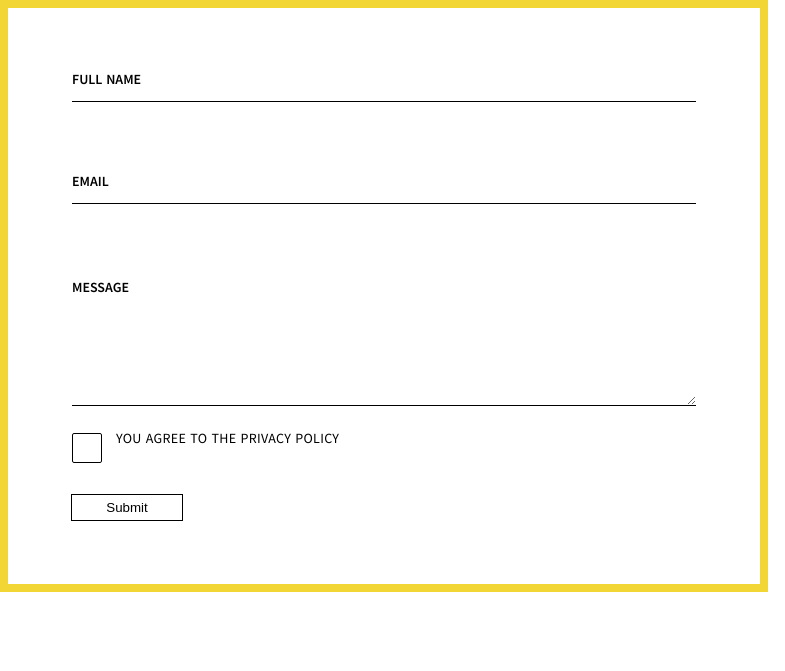
Scenario: TheContactForm › handles API failure during submission
Type "Jane Doe" into the field with id "name" at (384, 77), box [72, 52, 696, 102]
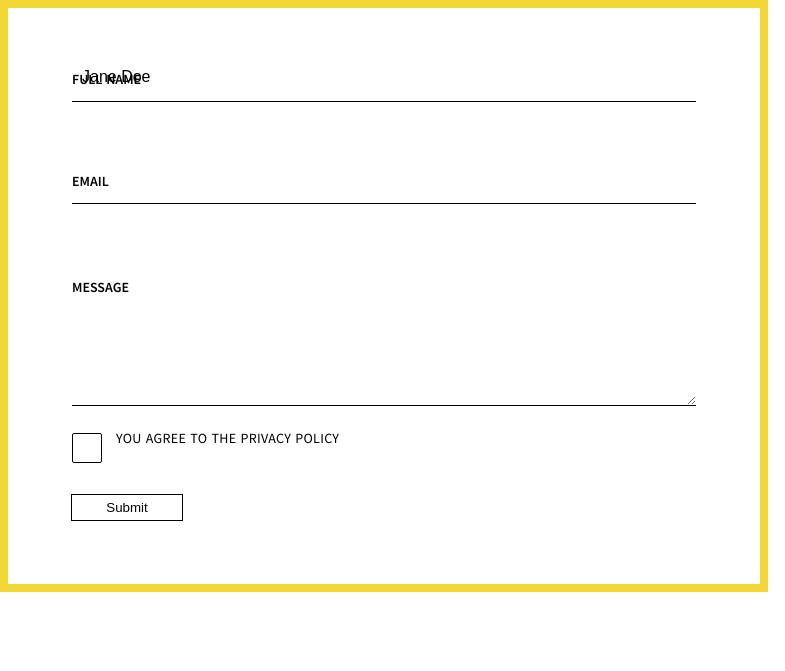
Type "jane@example.com" into the field with id "email" at (384, 179), box [72, 154, 696, 204]
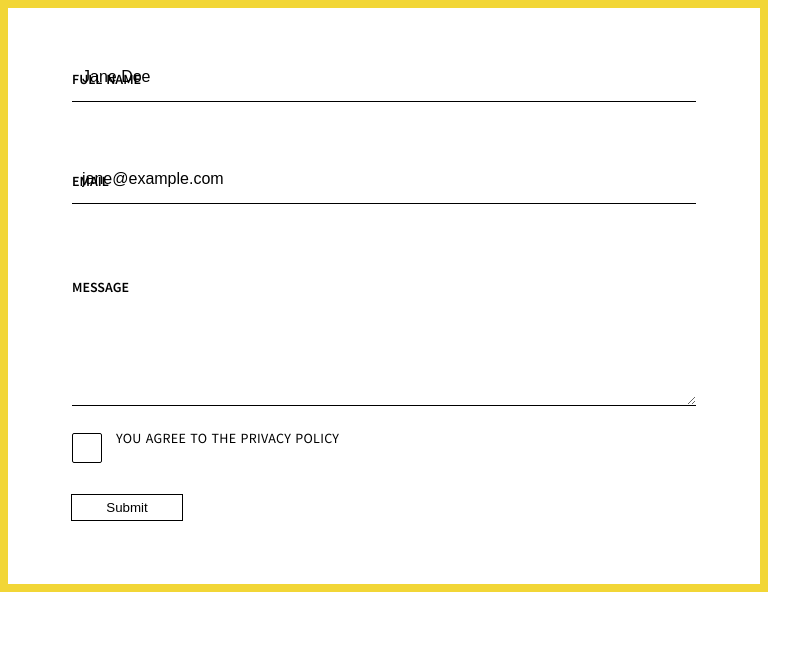
Type "Hello online" into the text box labelled "Message" at (384, 356), box [72, 306, 696, 406]
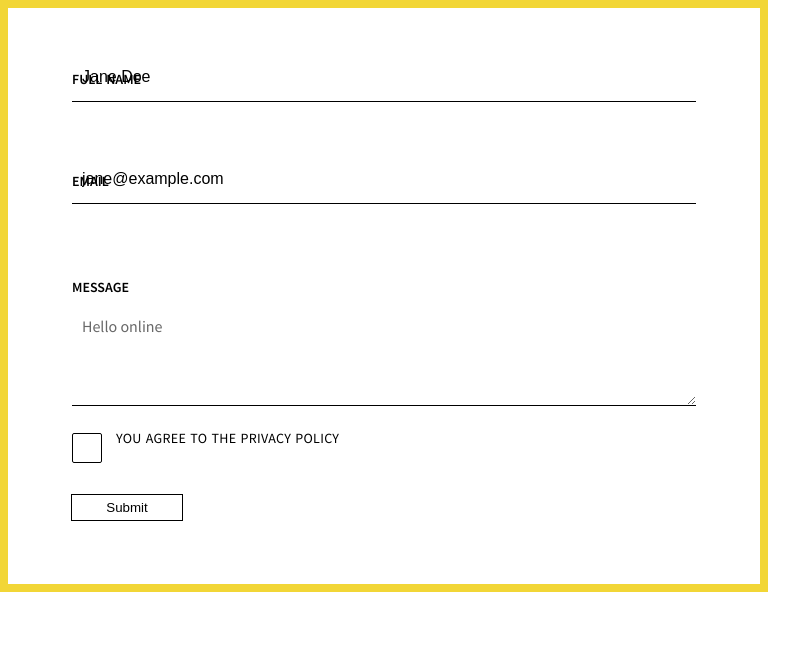
Click the checkbox with id "check1" at (228, 438), box [116, 429, 339, 447]
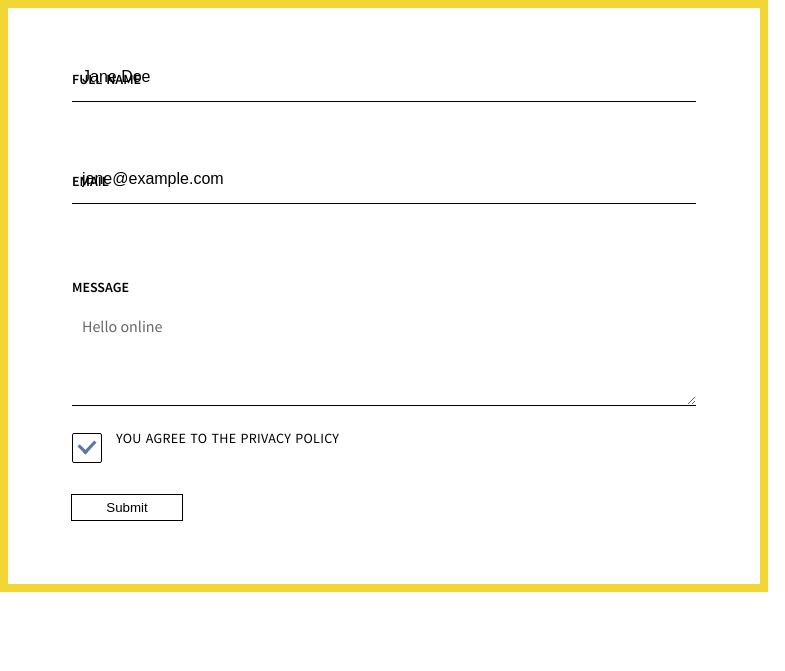
Click the button with class "button--contact" at (127, 508), box [72, 495, 182, 520]
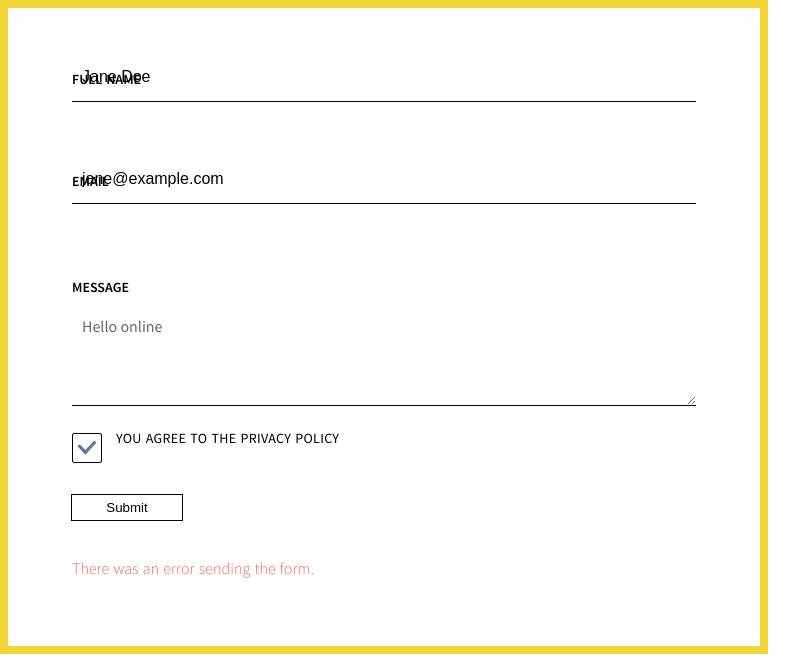
Now the text "There was an error sending the form." is shown, box [72, 558, 314, 578]
